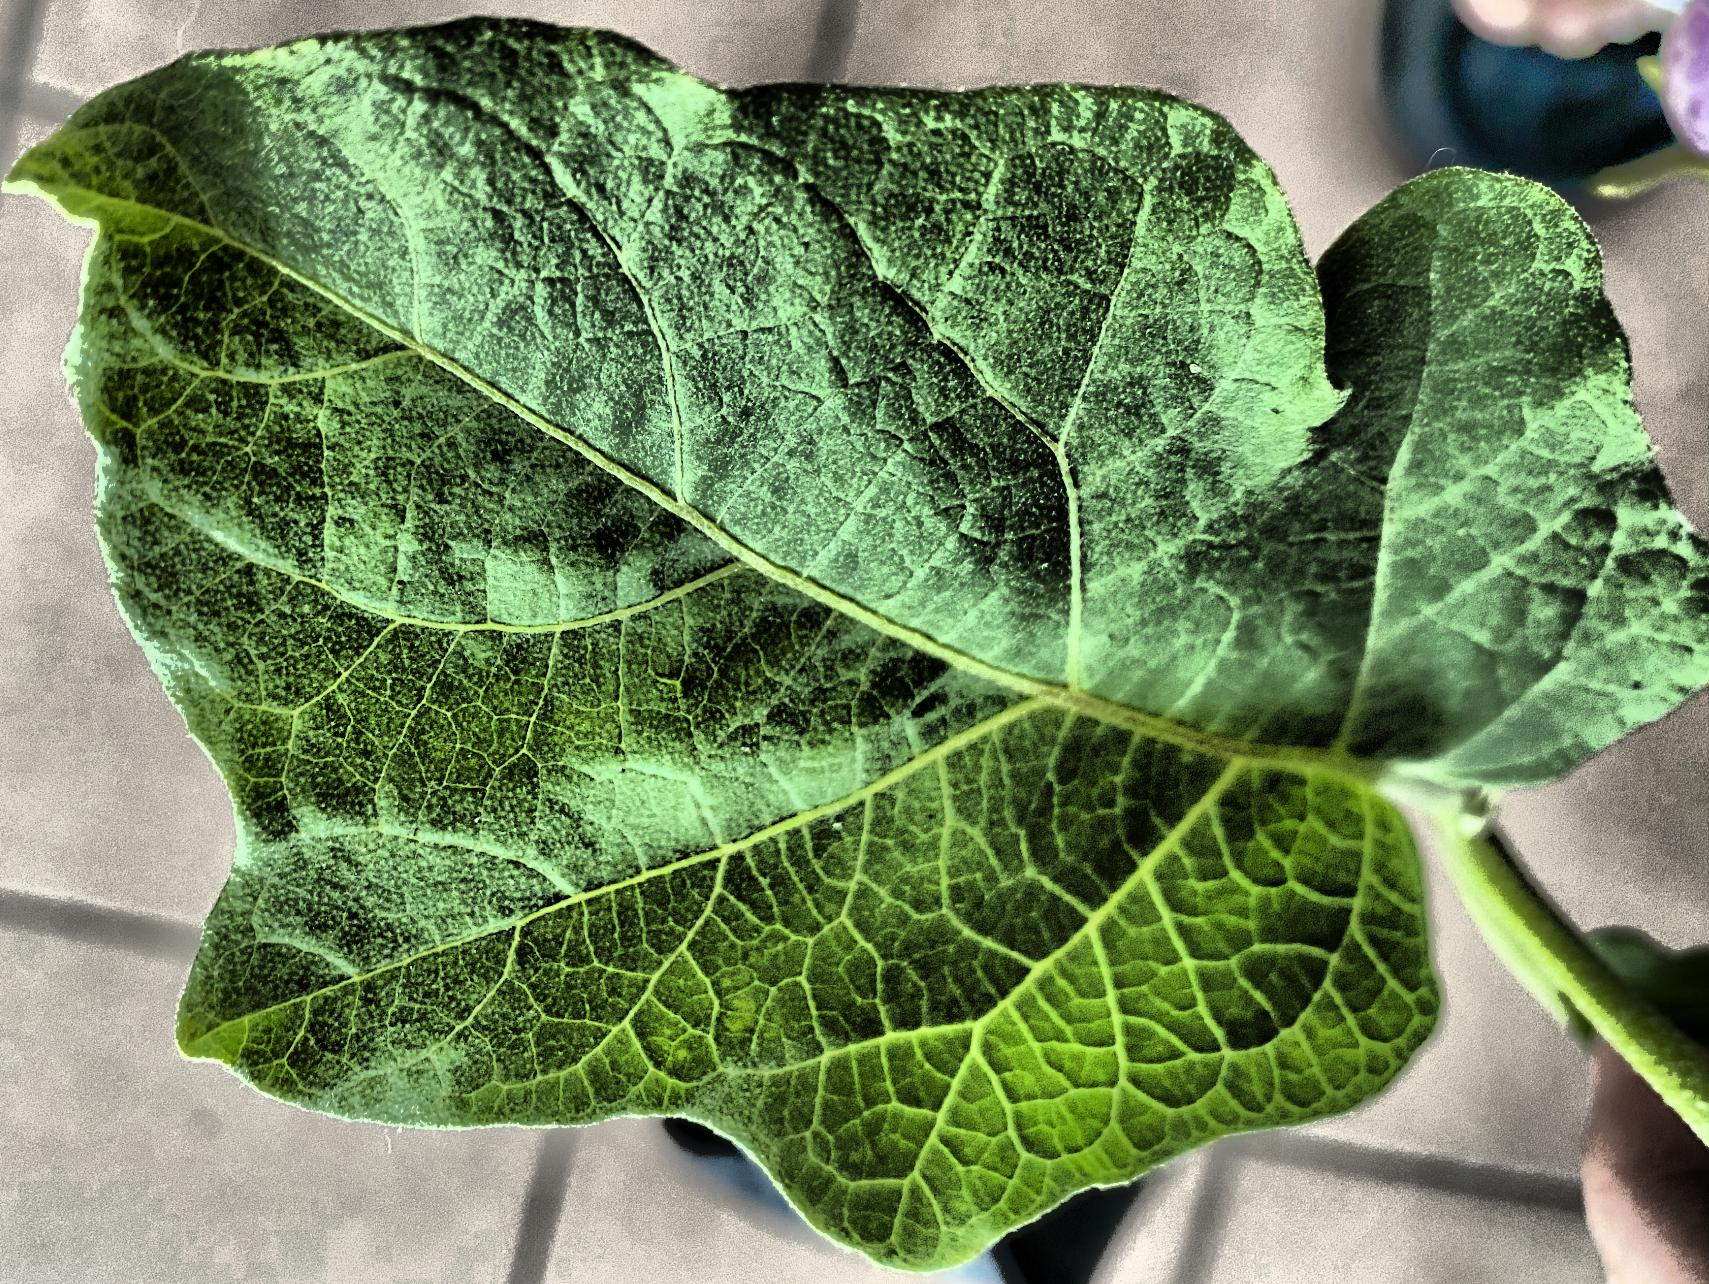HEALTHY: (1, 1, 1709, 1284)
